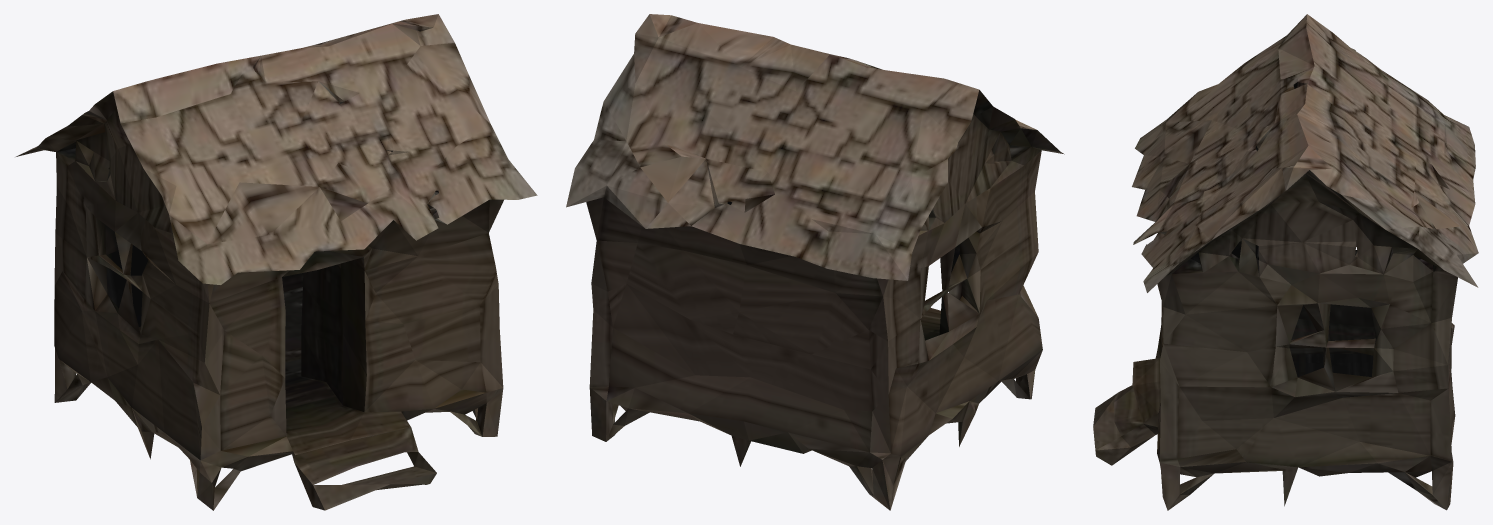
Rendered from stilt_house_low.glb.
The picture shows the model from 3 angles, left to right: view 1: azimuth 30°, elevation 25°; view 2: azimuth 150°, elevation 25°; view 3: azimuth 270°, elevation 25°; orthographic projection. The views are drawn at different scales.
Visible parts, largest first — view 1: m; view 2: m; view 3: m.
Boxes of the visible parts, left/top/right/bottom form: m: left=16, top=14, right=537, bottom=510; m: left=566, top=14, right=1064, bottom=510; m: left=1093, top=14, right=1478, bottom=510.
Size of the model in its own units: 5.98 by 6 by 5.89.
Materials: 1 (1 with a texture image).
